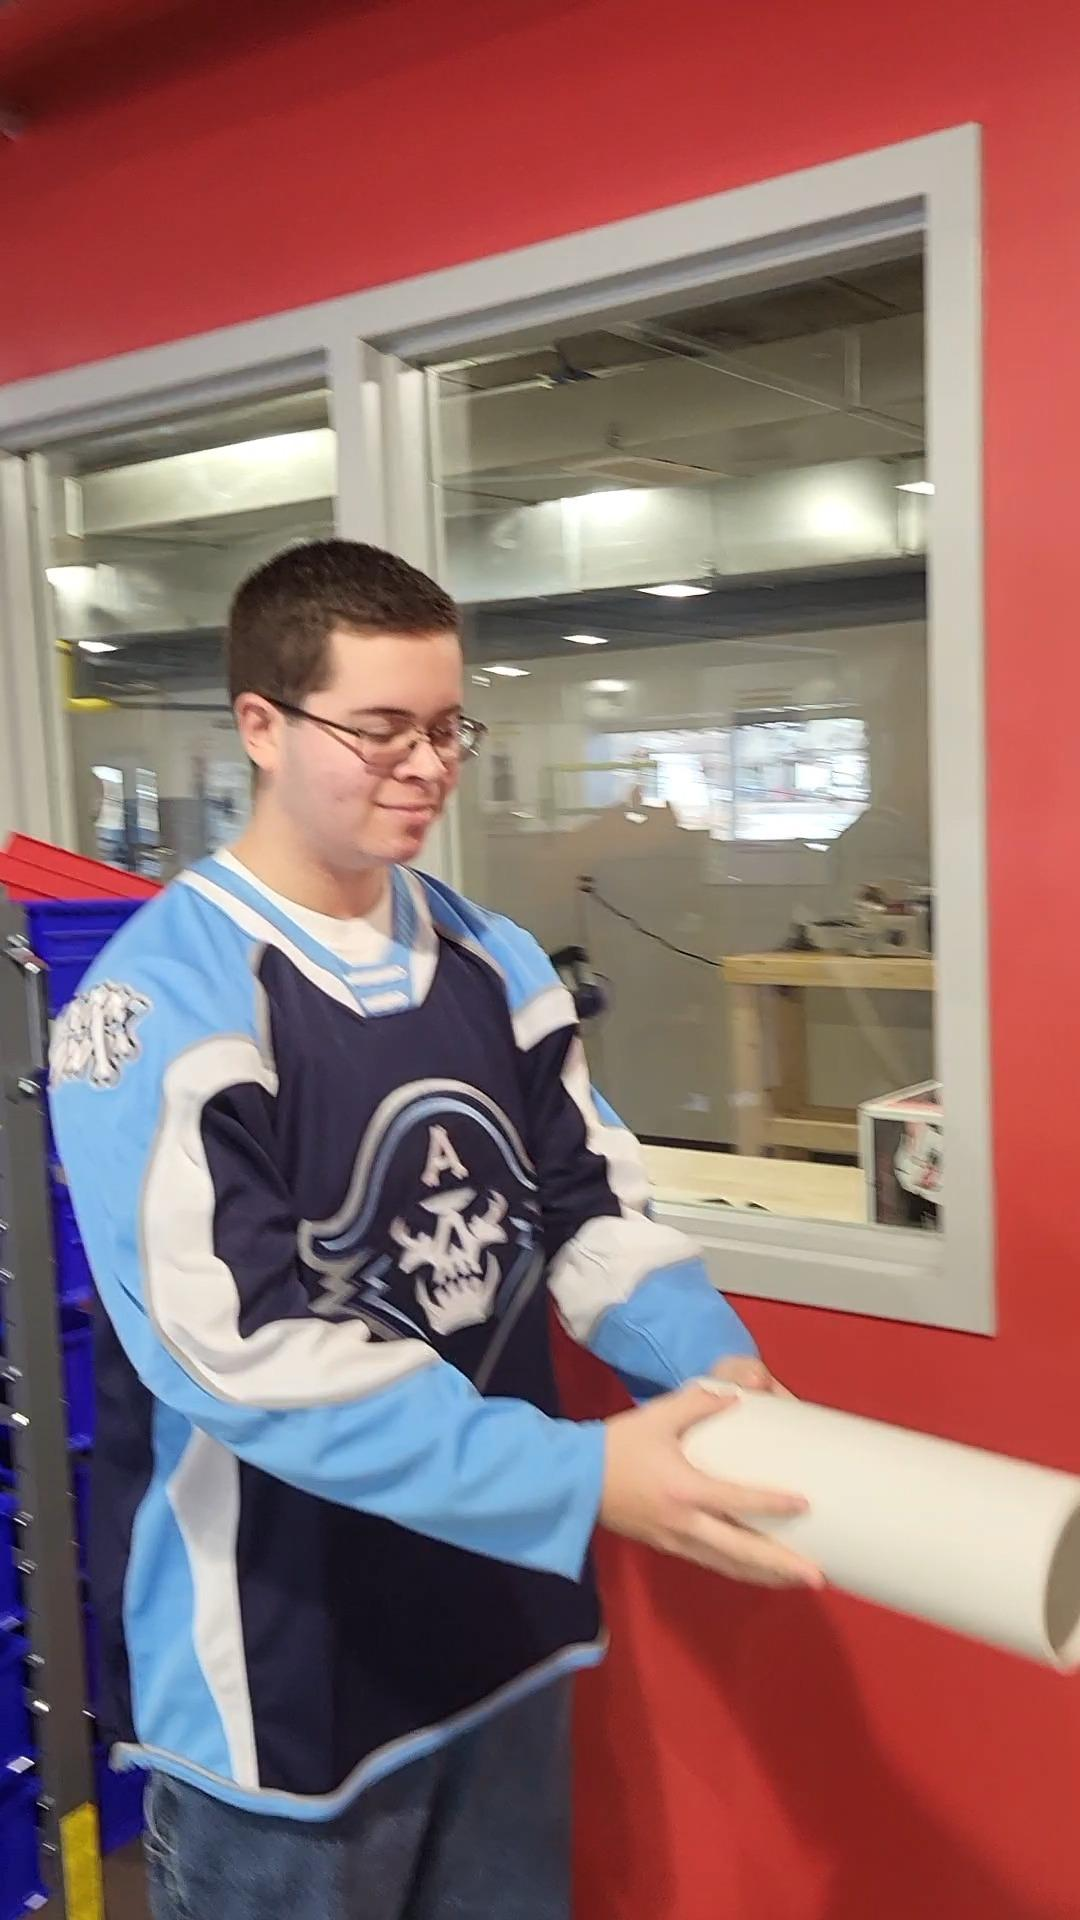coral: (653, 1385, 1080, 1680)
